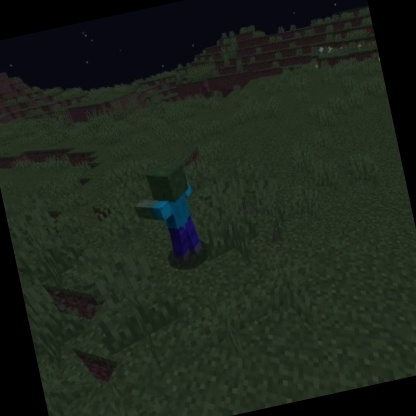zombie: (125, 156, 209, 274)
